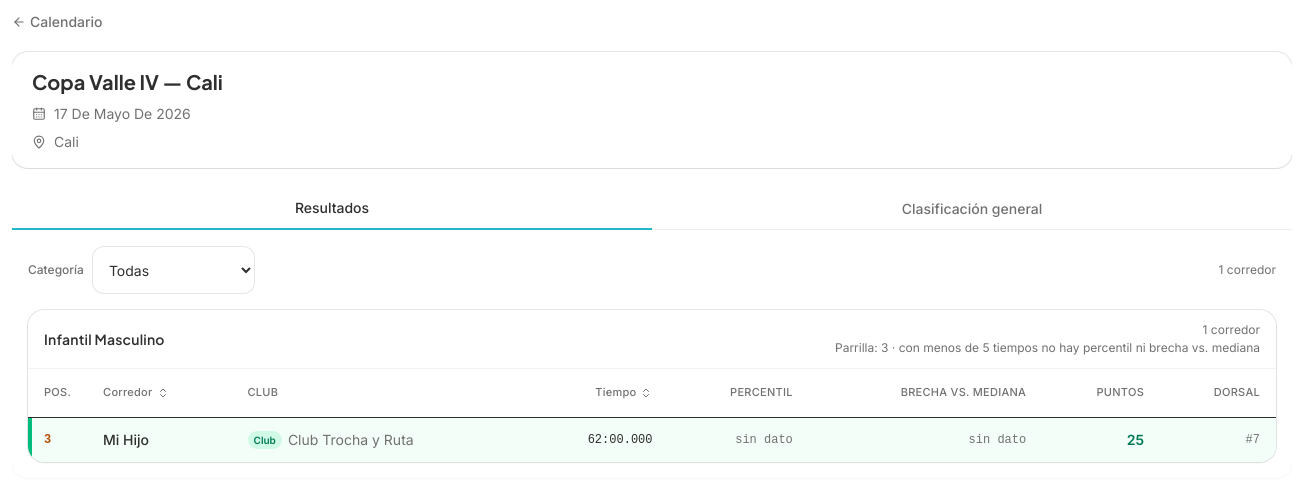
Test: ParentCompetitionResultsPage — resultados propios › la pestaña Clasificación general muestra la fila del hijo al cambiar de tab
The image size is (1304, 480).
Expected: the row with test id "results-row-101" is shown, x1=28 y1=418 x2=1276 y2=462
# Cambiar a Clasificación general
Step 1. Click the tab with test id "tab-btn-standings" → click(972, 209), box x1=652 y1=188 x2=1292 y2=230
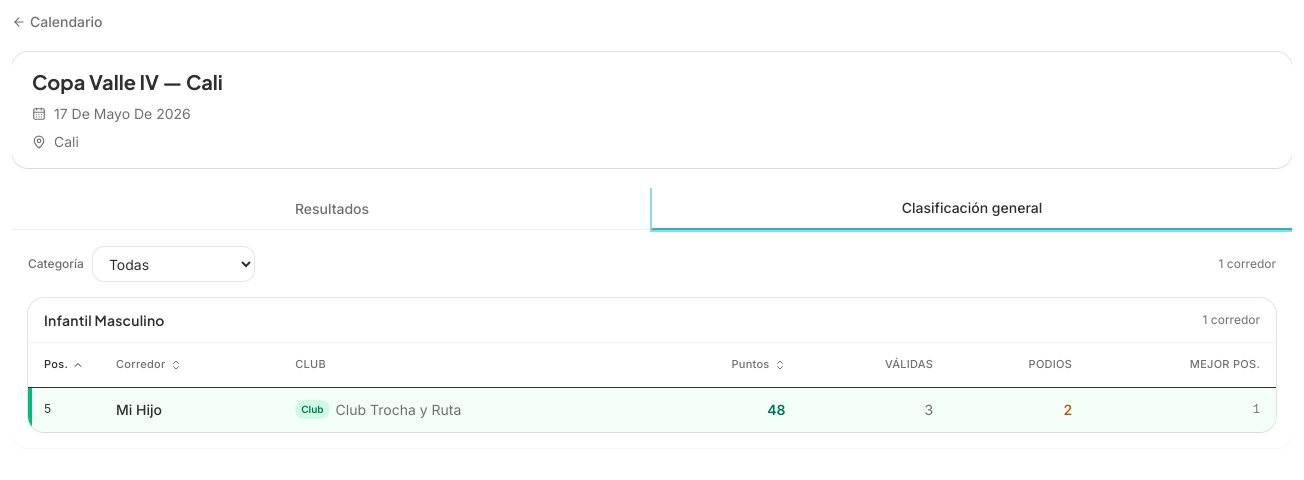
Expected: the text "Mi Hijo" is shown, x1=116 y1=400 x2=162 y2=420
Result: the row with test id "standings-row-101" is shown at x1=28 y1=388 x2=1276 y2=432
